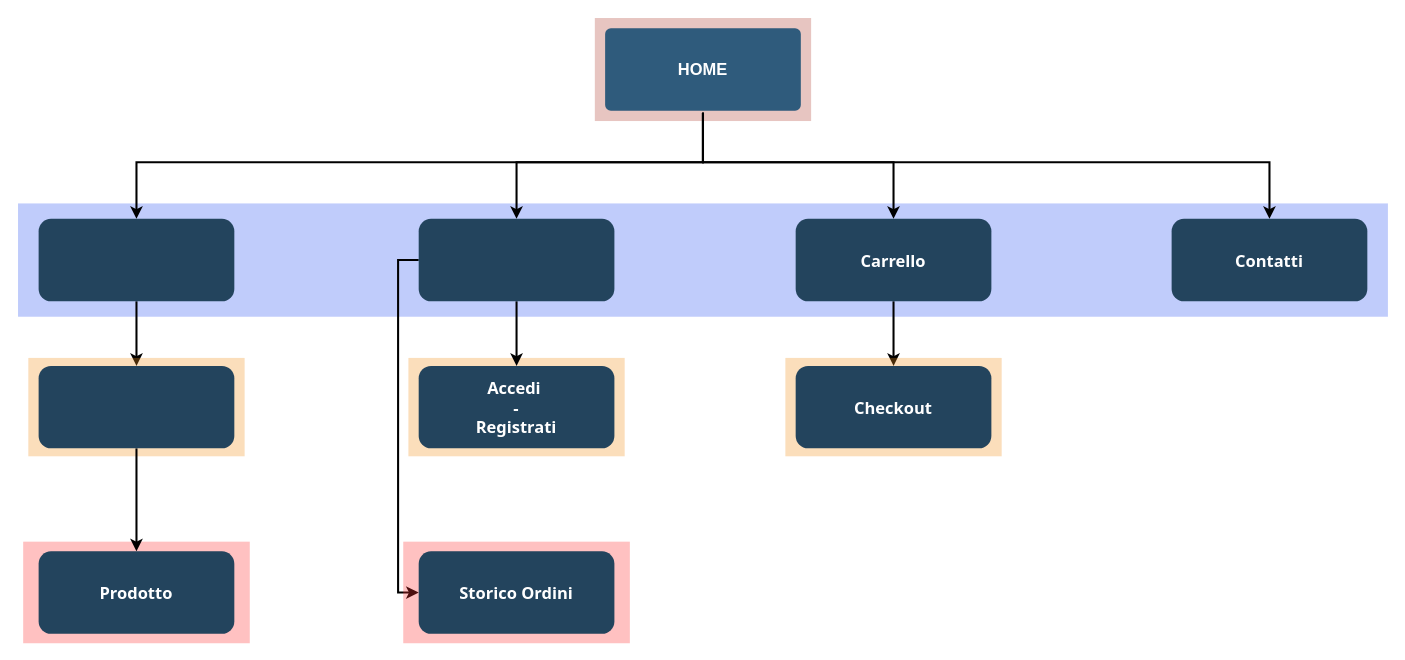
Some shapes in this 1405 by 660 pixel diagram are drawn without their labels. Each missing label, with the box of its shape:
Area Utente: (418, 218, 614, 301)
Categorie: (38, 218, 234, 301)
Lista prodotti: (38, 365, 234, 448)
